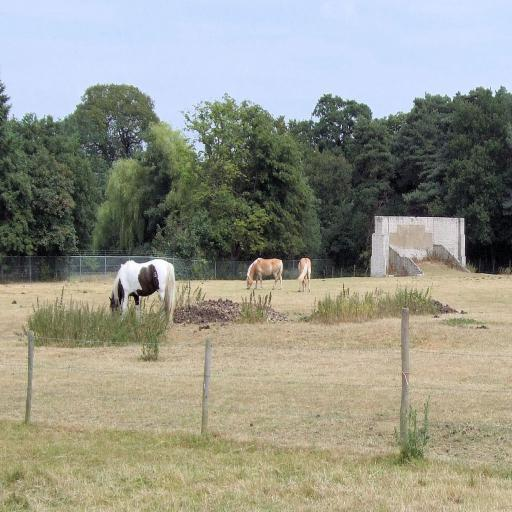horse: (108, 259, 176, 324), (246, 256, 284, 292), (297, 255, 311, 291)
